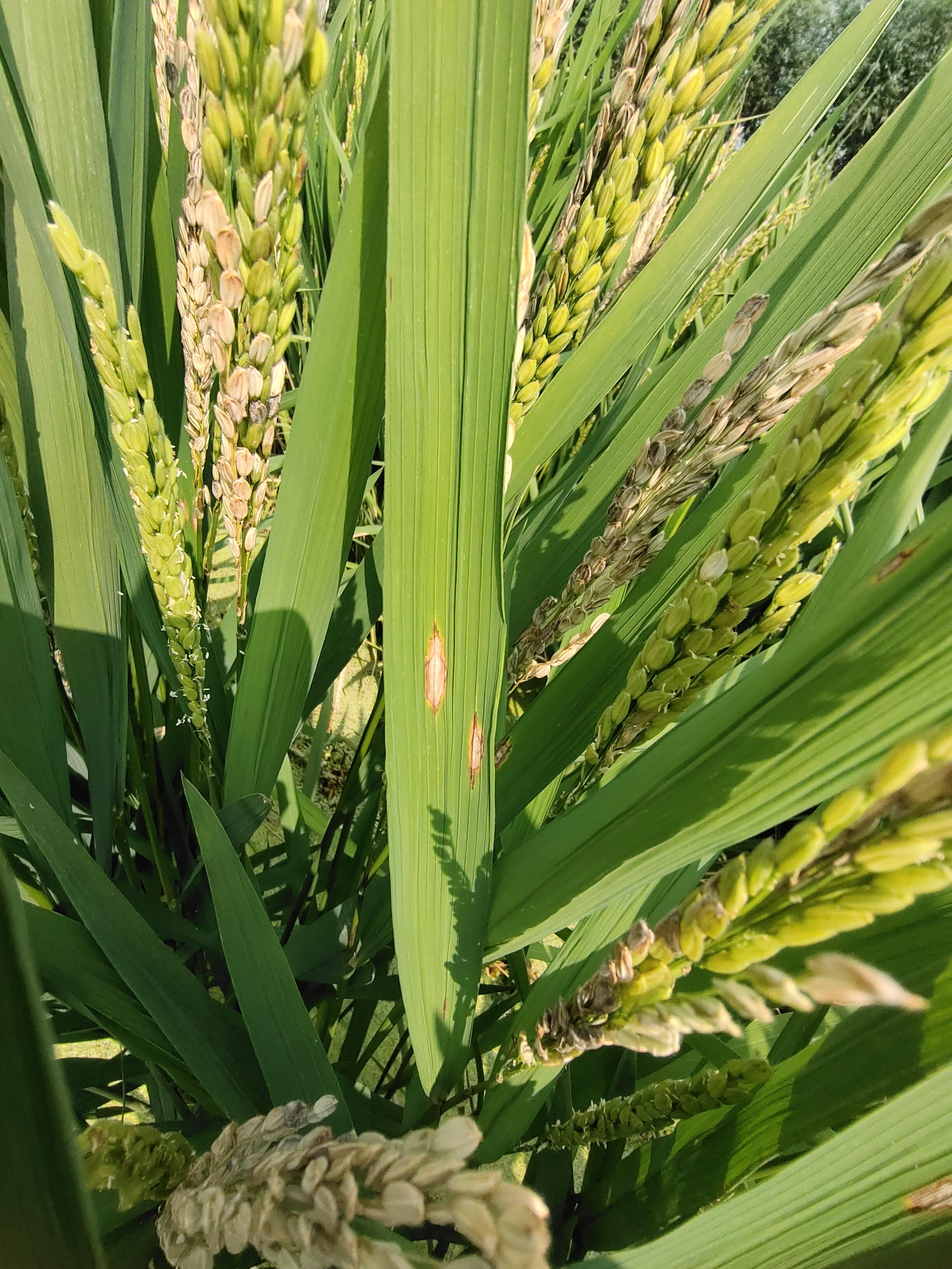LEAF BLAST: (425, 622, 447, 716), (469, 713, 484, 788)
